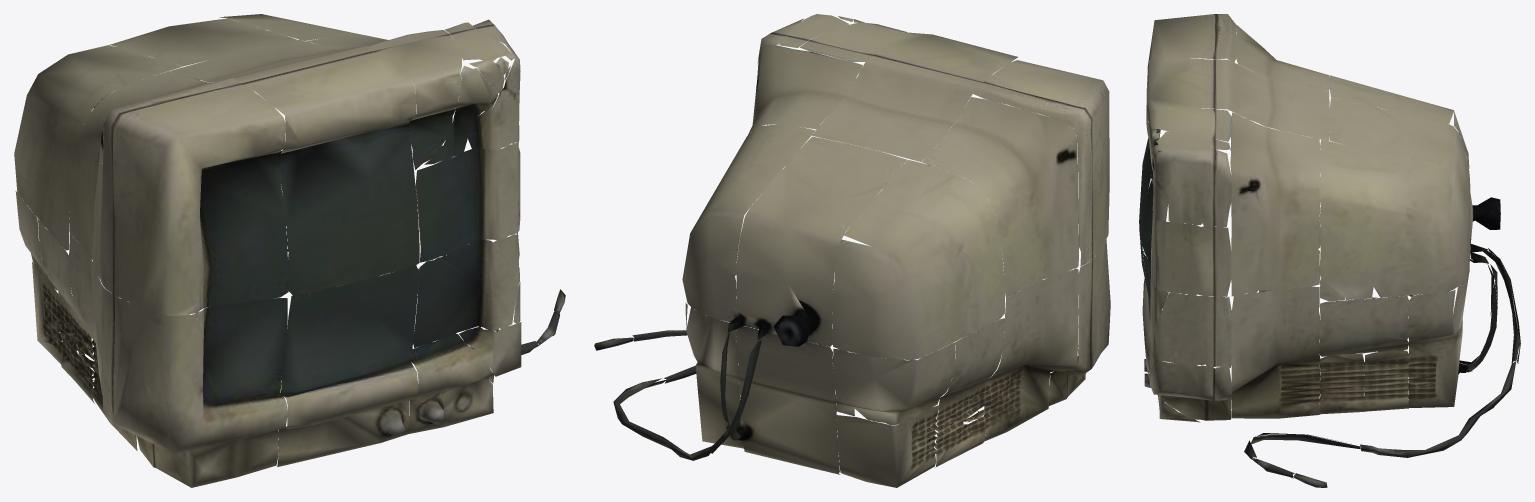
The model's file is crt.glb.
3 views of the same model, side by side, from view 1: azimuth 30°, elevation 25°; view 2: azimuth 150°, elevation 25°; view 3: azimuth 270°, elevation 25° (orthographic). The views are drawn at different scales.
Visible parts, largest first — view 1: geometry_0; view 2: geometry_0; view 3: geometry_0.
Boxes of the visible parts, x1,y1,x2,y2 form: geometry_0: (14, 14, 565, 487); geometry_0: (594, 14, 1110, 487); geometry_0: (1139, 14, 1520, 487).
Bounding box in the file's own units: 1.05 × 0.6994 × 0.8552.
Materials: 1 (1 with a texture image).
